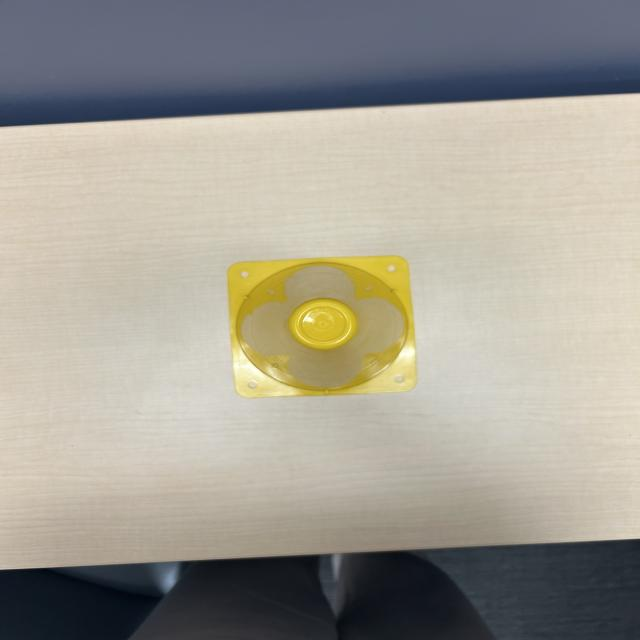yellow cone: (210, 255, 430, 398)
